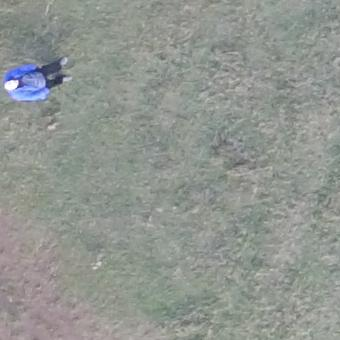human: (2, 55, 74, 106)
